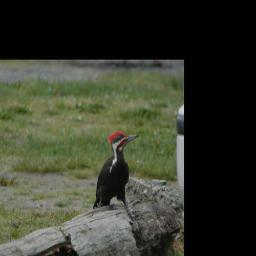Woodpecker: (92, 126, 139, 214)
